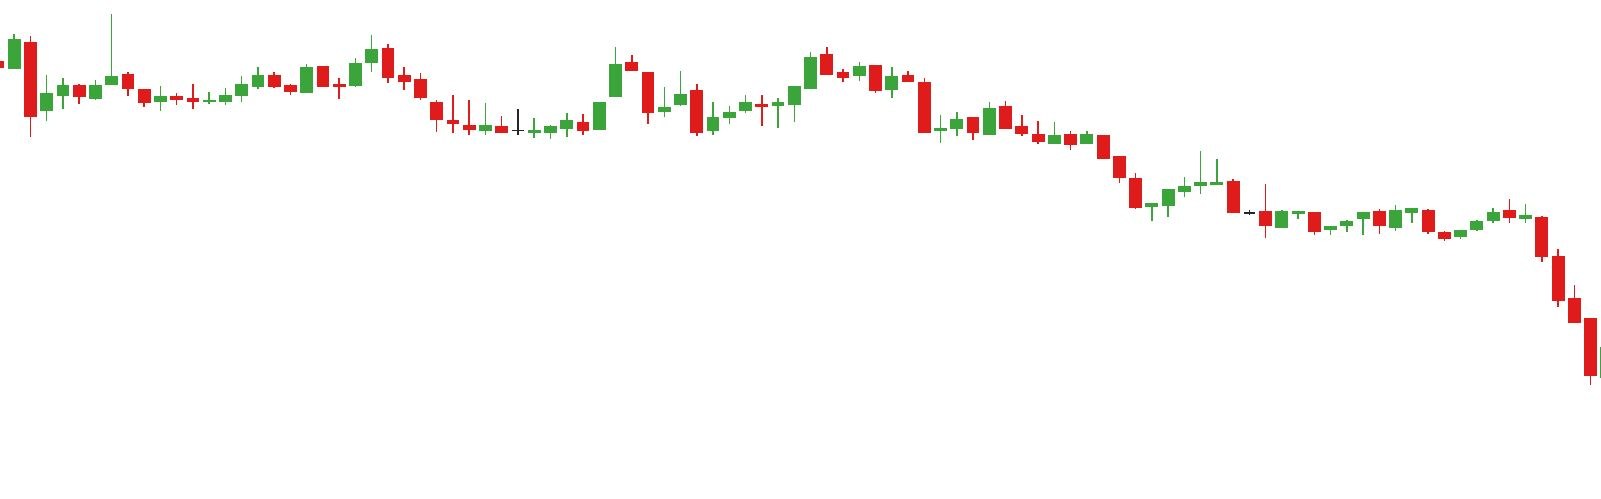sell: (607, 45, 836, 113)
